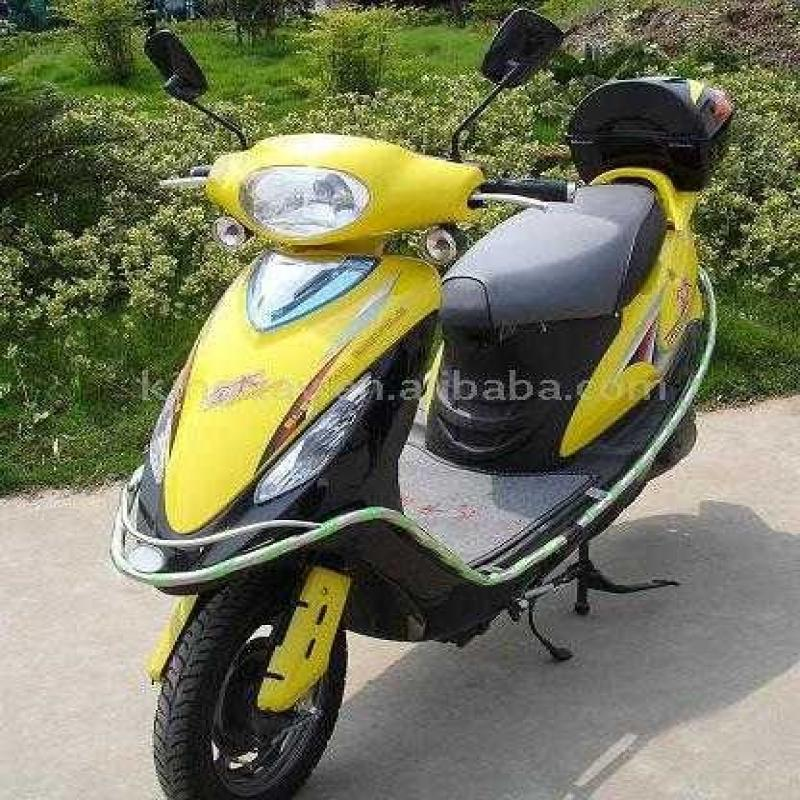bike: (81, 0, 729, 800)
